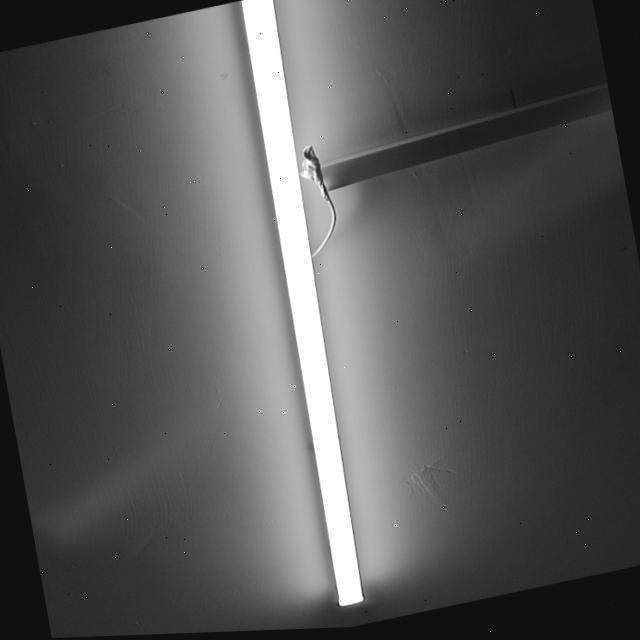light_on: (190, 0, 419, 630)
